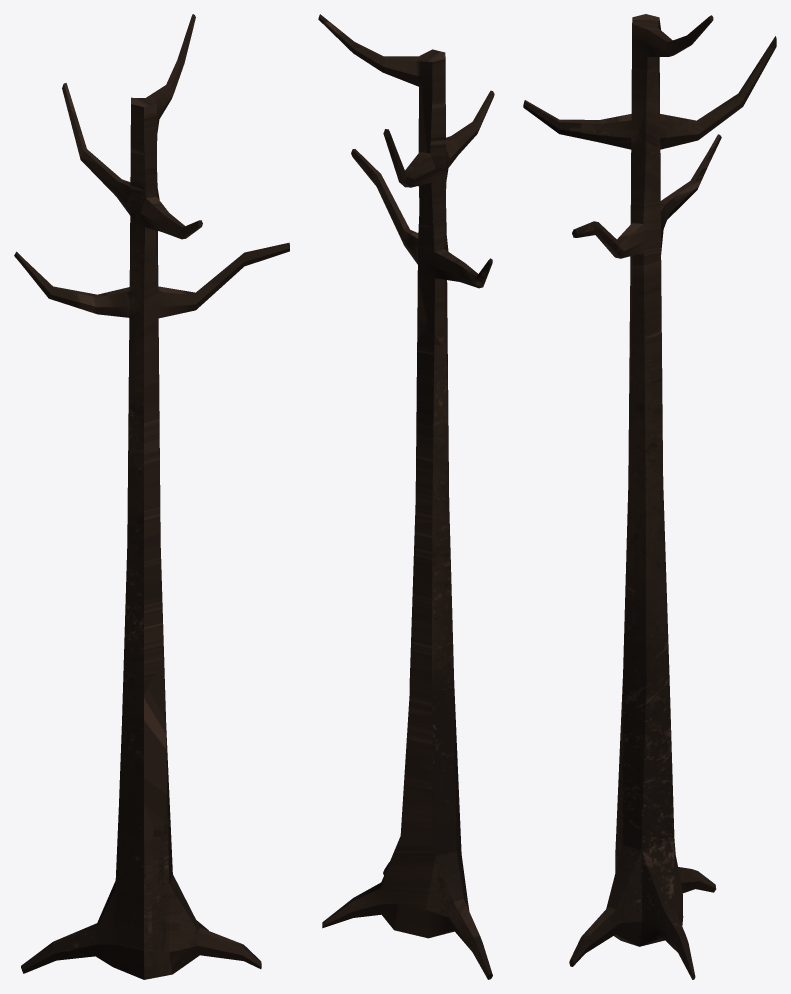
The model's file is Tree_02_Nude.fbx.
3 views of the same model, side by side, from view 1: azimuth 30°, elevation 25°; view 2: azimuth 150°, elevation 25°; view 3: azimuth 270°, elevation 25° (orthographic). The views are drawn at different scales.
Parts seen in each view (by area): view 1: pCylinder3; view 2: pCylinder3; view 3: pCylinder3.
Boxes of the visible parts, x1,y1,x2,y2 form: pCylinder3: [14, 14, 289, 979]; pCylinder3: [318, 14, 494, 979]; pCylinder3: [523, 14, 776, 979].
Size of the model in its own units: 7.05 by 29.71 by 7.09.
